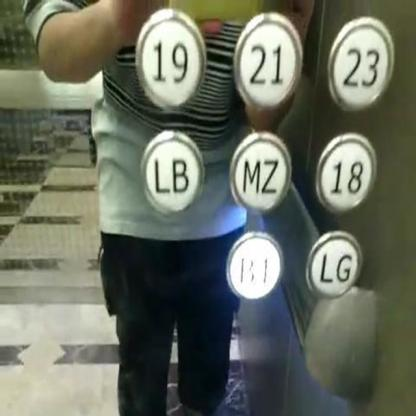18: (315, 131, 378, 214)
19: (134, 5, 206, 111)
21: (230, 8, 304, 112)
23: (326, 15, 396, 113)
B1: (223, 228, 283, 301)
LB: (138, 127, 203, 215)
LG: (304, 229, 362, 301)
MZ: (227, 129, 292, 215)
